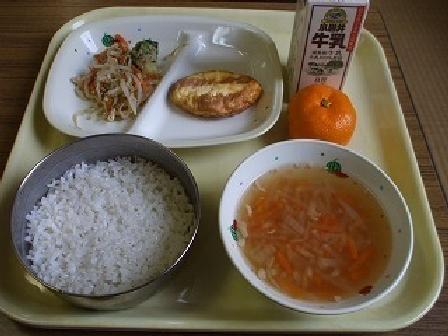Citrus: (276, 78, 357, 154)
Milk: (278, 1, 378, 86)
Rice: (10, 128, 205, 303)
Salad: (63, 26, 161, 125)
Soups: (221, 146, 416, 308)
pastry: (162, 57, 274, 133)
